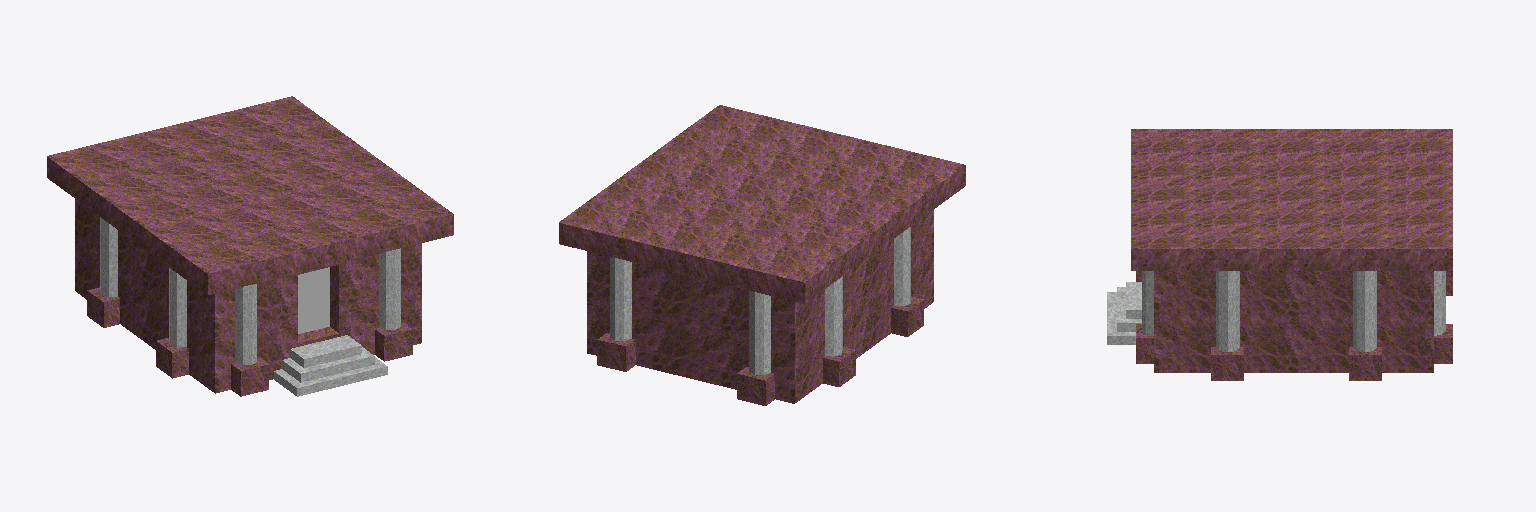
3 renders of one model, left to right at view 1: azimuth 30°, elevation 25°; view 2: azimuth 150°, elevation 25°; view 3: azimuth 270°, elevation 25°, orthographic.
Visible parts, largest first — view 1: model43138-node_model43138; view 2: model43138-node_model43138; view 3: model43138-node_model43138.
Part boxes in pixels (x1,y1,x2,y2): model43138-node_model43138: (47,96,453,396); model43138-node_model43138: (559,105,965,405); model43138-node_model43138: (1107,129,1452,380).
Bounding box in the file's own units: 12 × 6.21 × 14.6.
3 materials, 2 textured.